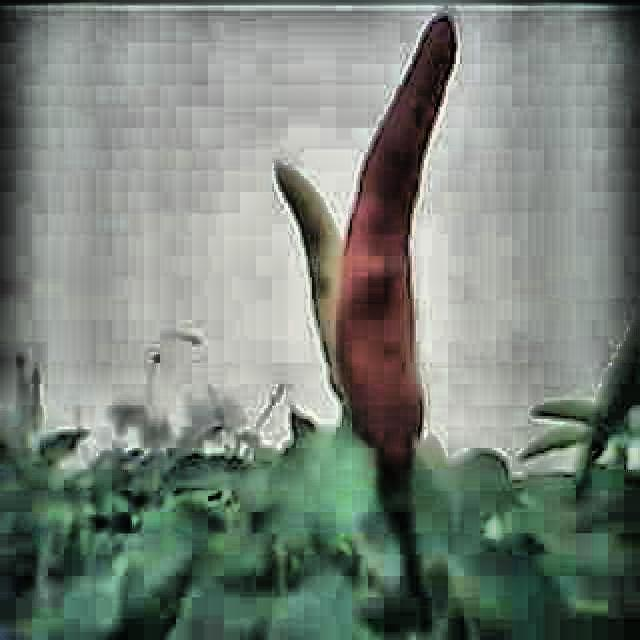Cabai: (359, 19, 437, 484)
